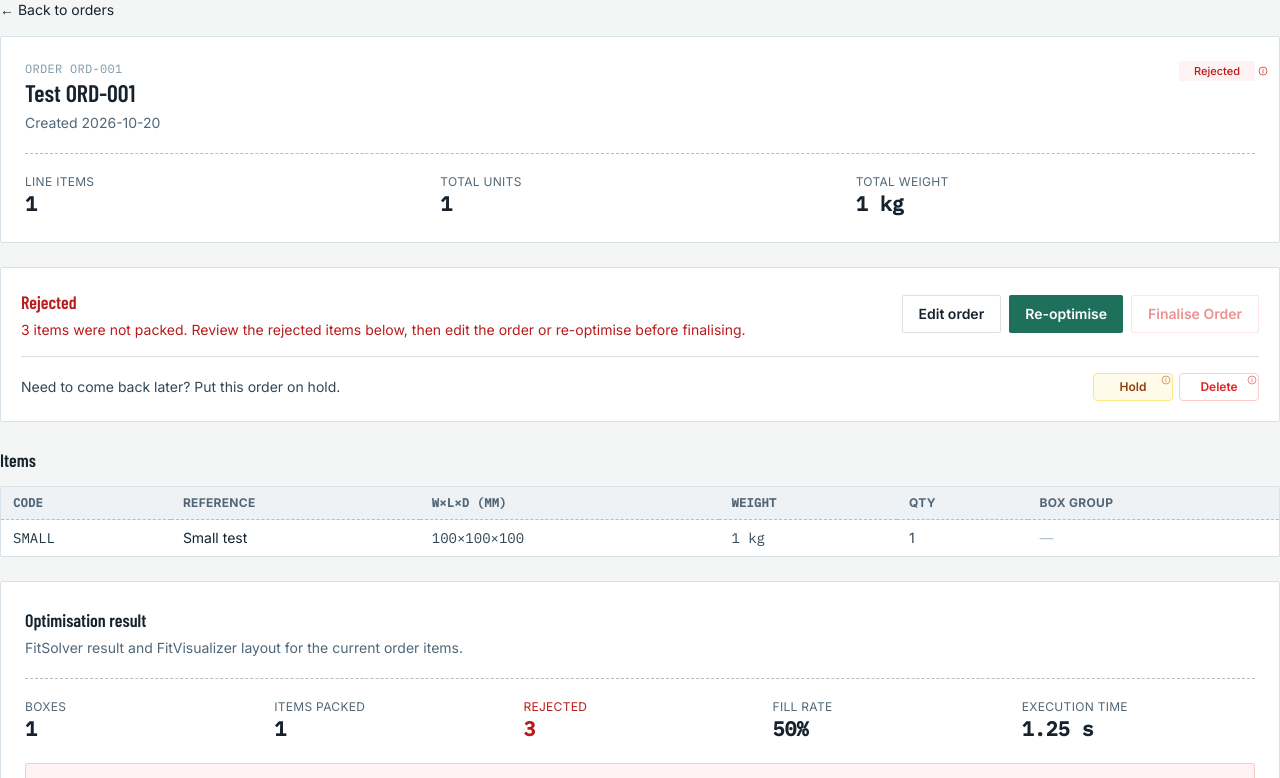
Test case: order rejection display and recovery › clears rejection indicators after a successful re-optimisation
The width and height of the screenshot is (1280, 778).
Click the button "Re-optimise" at point(1066, 314), box [1009,295,1123,333]
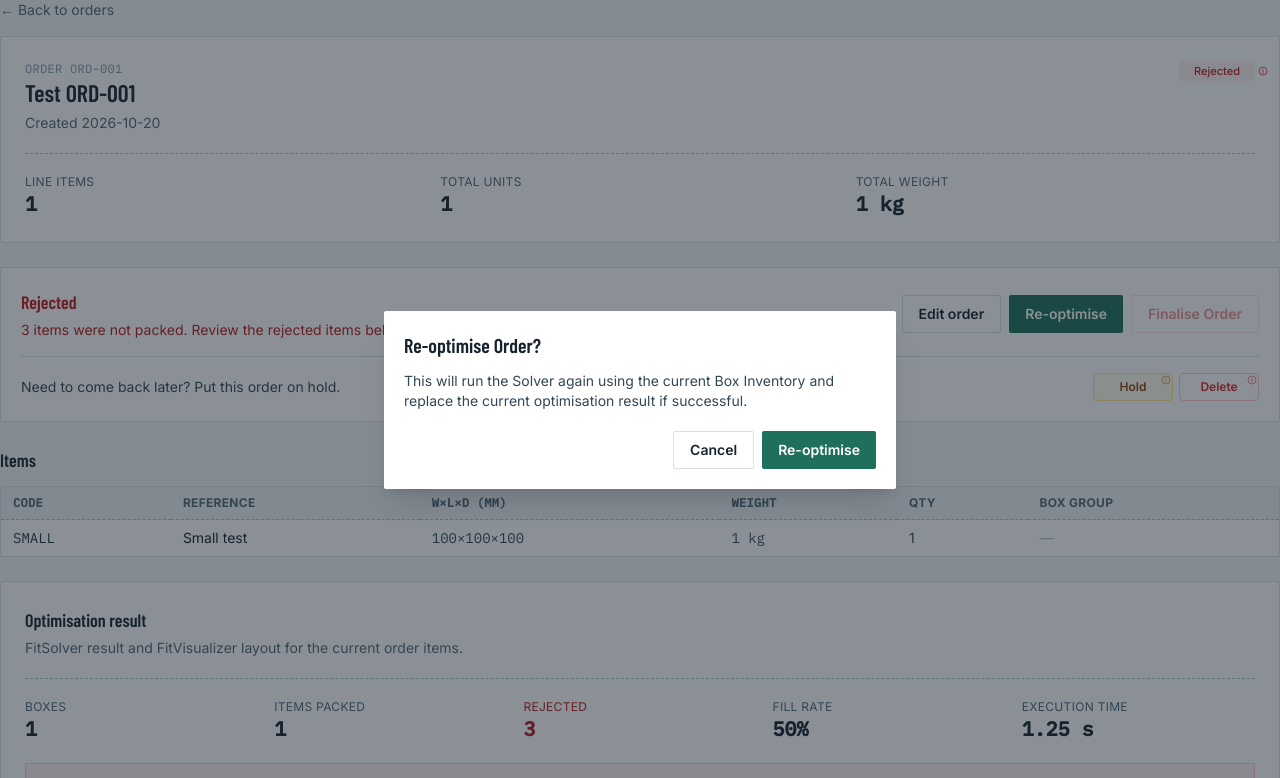
Click the button "Re-optimise" at point(819, 450), box [762,431,876,469]
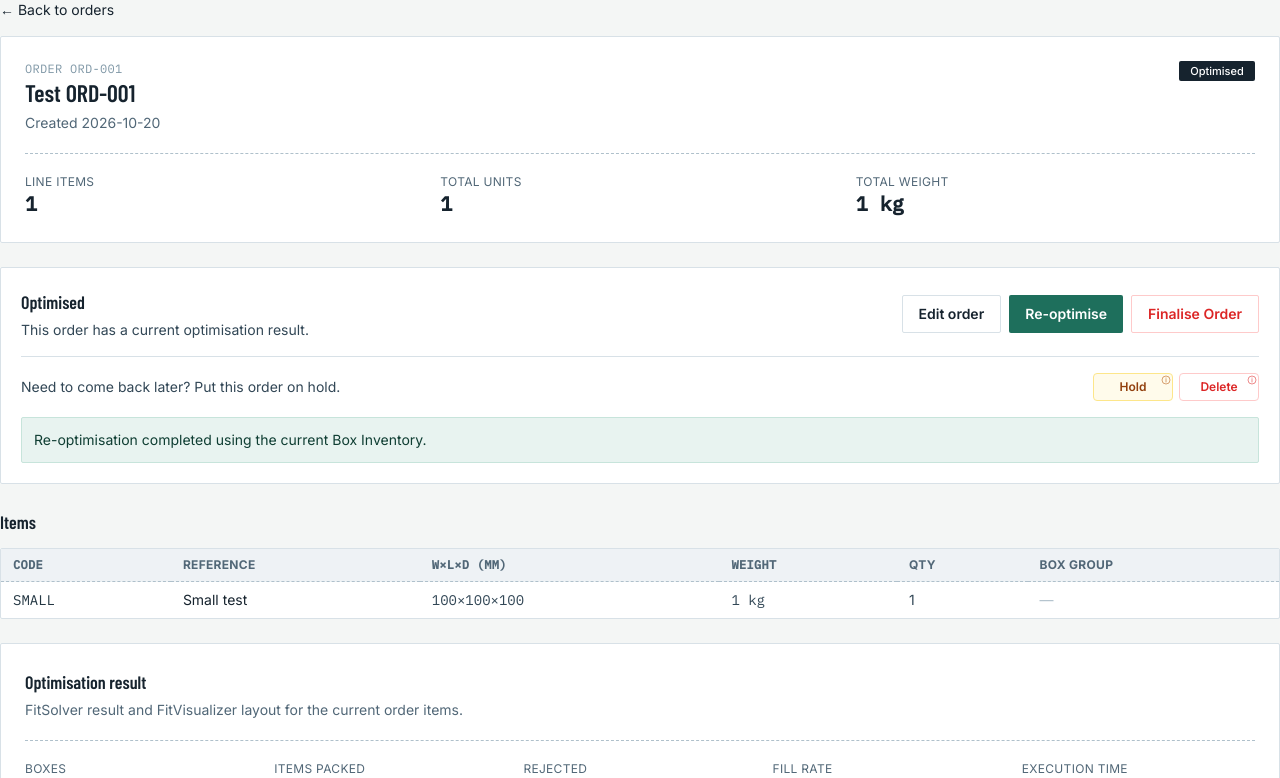
Expected: the element showing "Optimised" is shown, [1179,61,1255,81]
Result: the button "Finalise Order" is enabled at [1131,295,1259,333]
Result: the text "Re-optimisation completed" is shown at [34,431,427,448]
